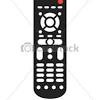remote control: (31, 3, 71, 96)
